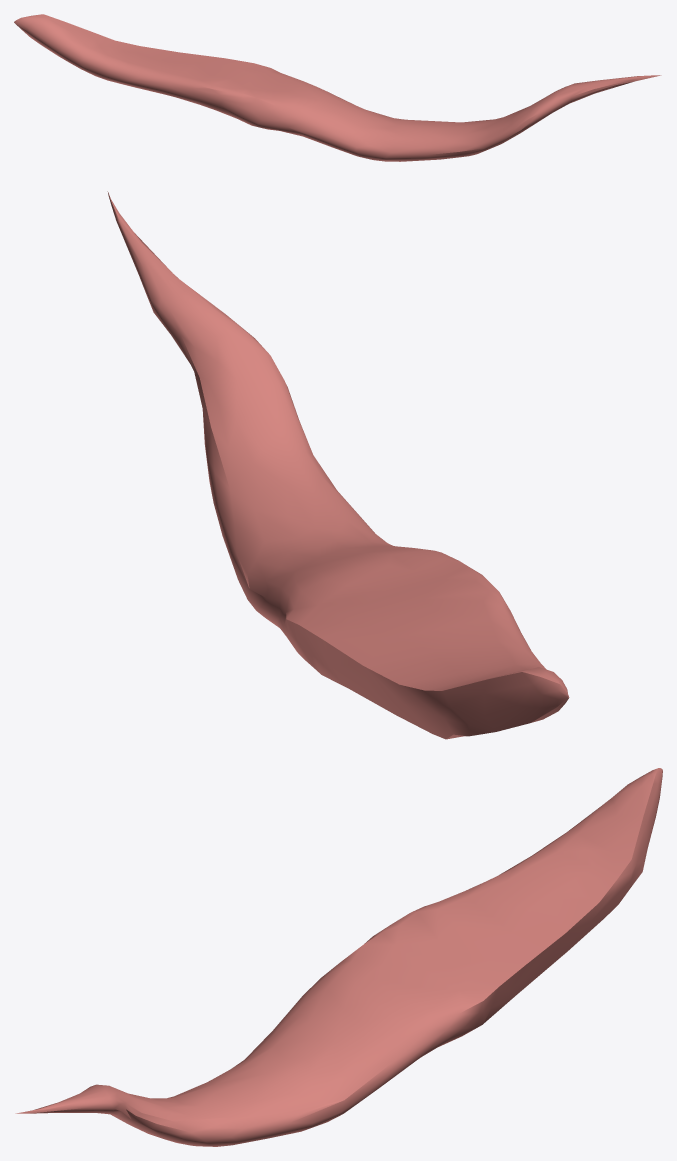
File: fma37484_mm1738.glb
3 views of the same model, one above another, from view 1: azimuth 30°, elevation 25°; view 2: azimuth 150°, elevation 25°; view 3: azimuth 270°, elevation 25° (orthographic). The views are drawn at different scales.
Visible parts, largest first — view 1: FMA37484_MM1738; view 2: FMA37484_MM1738; view 3: FMA37484_MM1738.
Part boxes in pixels (x1=…): FMA37484_MM1738: x1=14, y1=14, x2=661, y2=161; FMA37484_MM1738: x1=107, y1=191, x2=569, y2=739; FMA37484_MM1738: x1=15, y1=768, x2=662, y2=1146.
Bounding box in the file's own units: 0.0484 × 0.0113 × 0.0399.
